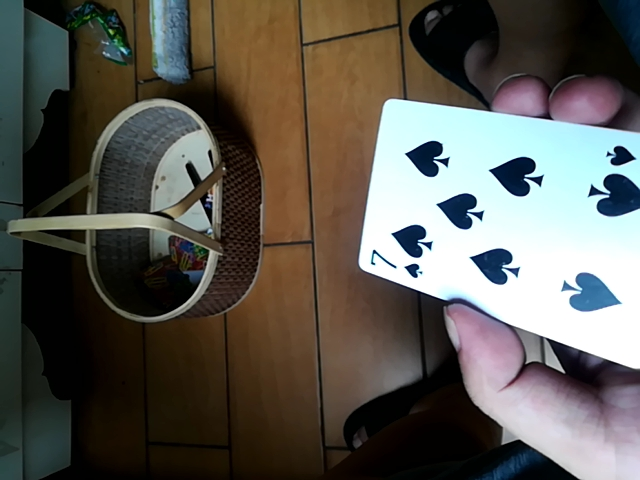ht 7: (355, 96, 640, 368)
